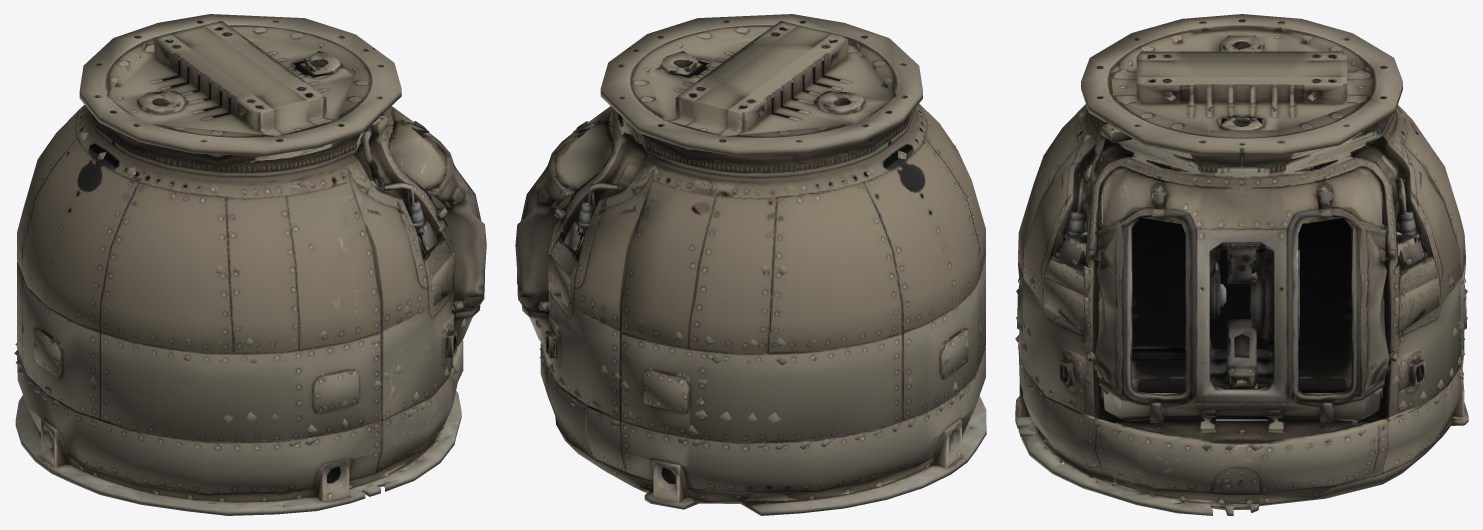
The model's file is chinturret_ng_remesh.glb.
3 views of the same model, side by side, from view 1: azimuth 30°, elevation 25°; view 2: azimuth 150°, elevation 25°; view 3: azimuth 270°, elevation 25° (orthographic).
Parts seen in each view (by area): view 1: tripo_node_9f9c3313-a062-41f5-8d3d-5fd84; view 2: tripo_node_9f9c3313-a062-41f5-8d3d-5fd84; view 3: tripo_node_9f9c3313-a062-41f5-8d3d-5fd84.
Part boxes in pixels (x1,y1,x2,y2): tripo_node_9f9c3313-a062-41f5-8d3d-5fd84: (14,14,486,515); tripo_node_9f9c3313-a062-41f5-8d3d-5fd84: (515,14,986,515); tripo_node_9f9c3313-a062-41f5-8d3d-5fd84: (1015,14,1468,515).
Bounding box in the file's own units: 0.9961 × 0.8591 × 1.
1 material, 1 textured.
